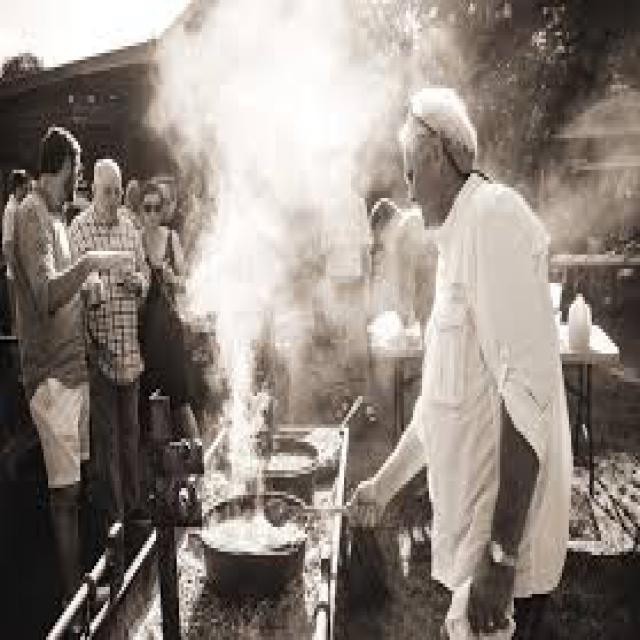Smoke: (154, 3, 383, 389)
